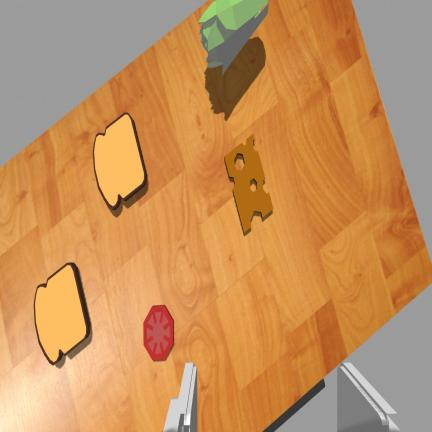cheese: (225, 134, 272, 232)
lettuce: (199, 0, 268, 74)
sliced_bread: (34, 263, 89, 363), (93, 113, 146, 209)
sliced_tomato: (144, 305, 173, 360)
